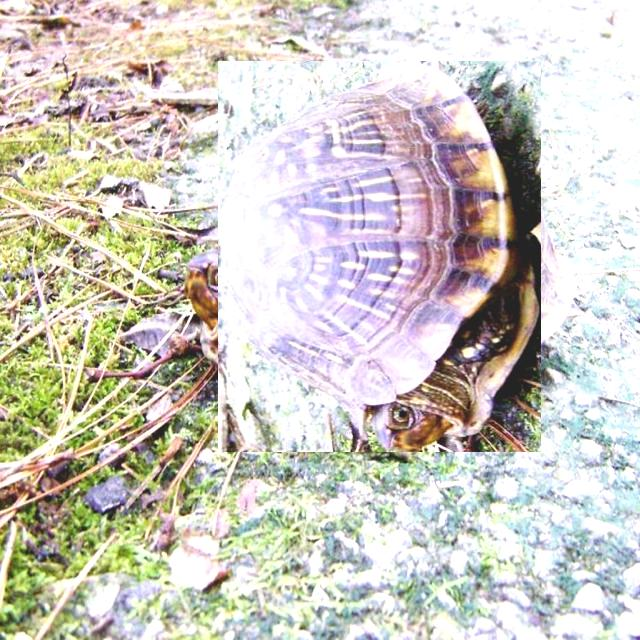Sea turtle: (202, 78, 558, 435)
